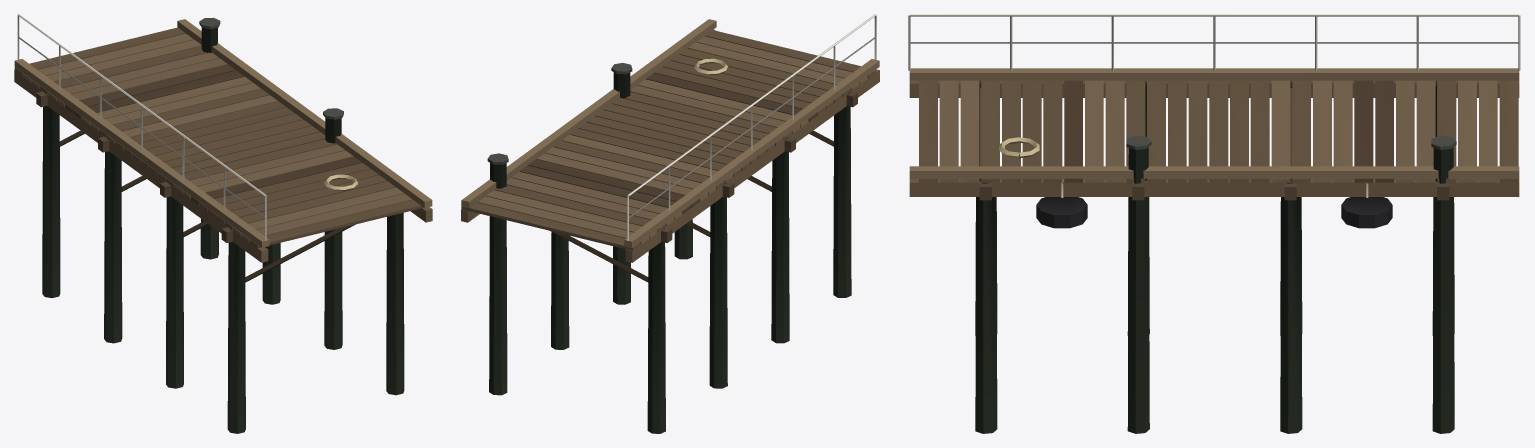
Rendered from pier_section.glb.
3 renders of one model, left to right at view 1: azimuth 30°, elevation 25°; view 2: azimuth 150°, elevation 25°; view 3: azimuth 270°, elevation 25°, orthographic. The views are drawn at different scales.
Parts seen in each view (by area): view 1: pier_section_mesh; view 2: pier_section_mesh; view 3: pier_section_mesh.
Part boxes in pixels (left/top/right/bottom): pier_section_mesh: left=14, top=14, right=432, bottom=433; pier_section_mesh: left=461, top=14, right=879, bottom=433; pier_section_mesh: left=908, top=14, right=1520, bottom=433.
Size of the model in its own units: 4.57 by 5.76 by 10.04.
